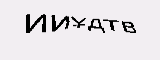В: (120, 18, 137, 37)
Д: (89, 14, 107, 38)
И: (21, 10, 46, 34), (50, 11, 71, 35)
Т: (104, 15, 120, 33)
Ұ: (72, 11, 87, 33)
